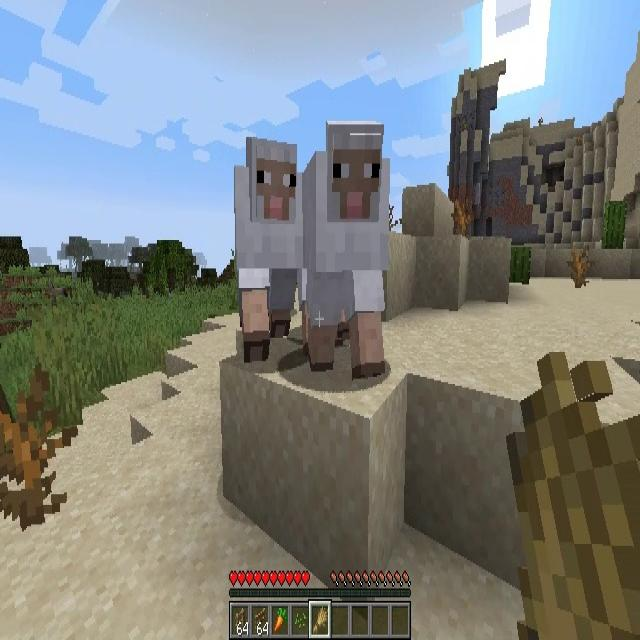sheep: (303, 126, 391, 380), (236, 139, 301, 368)
